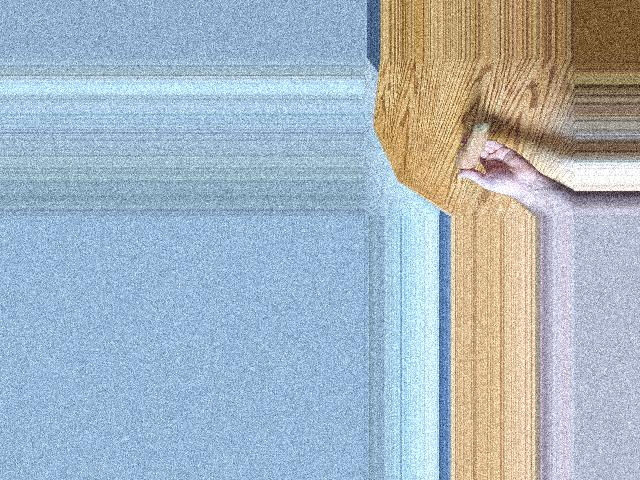sweet_potato: (457, 122, 491, 173)
